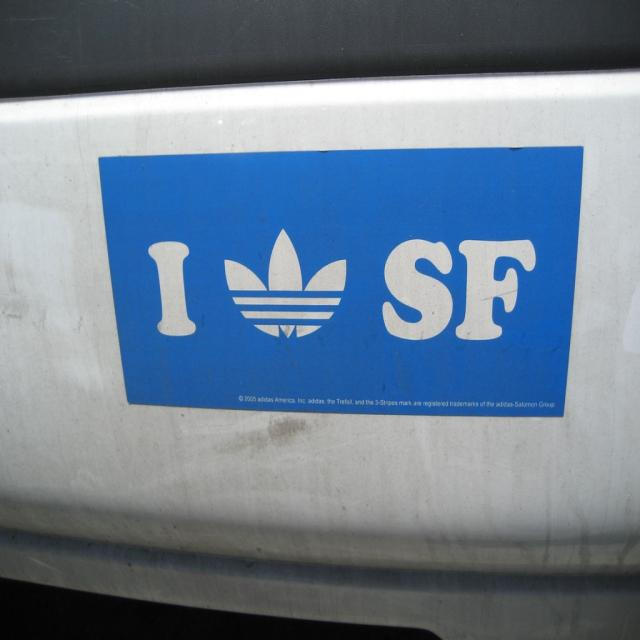adidas: (222, 227, 352, 344)
